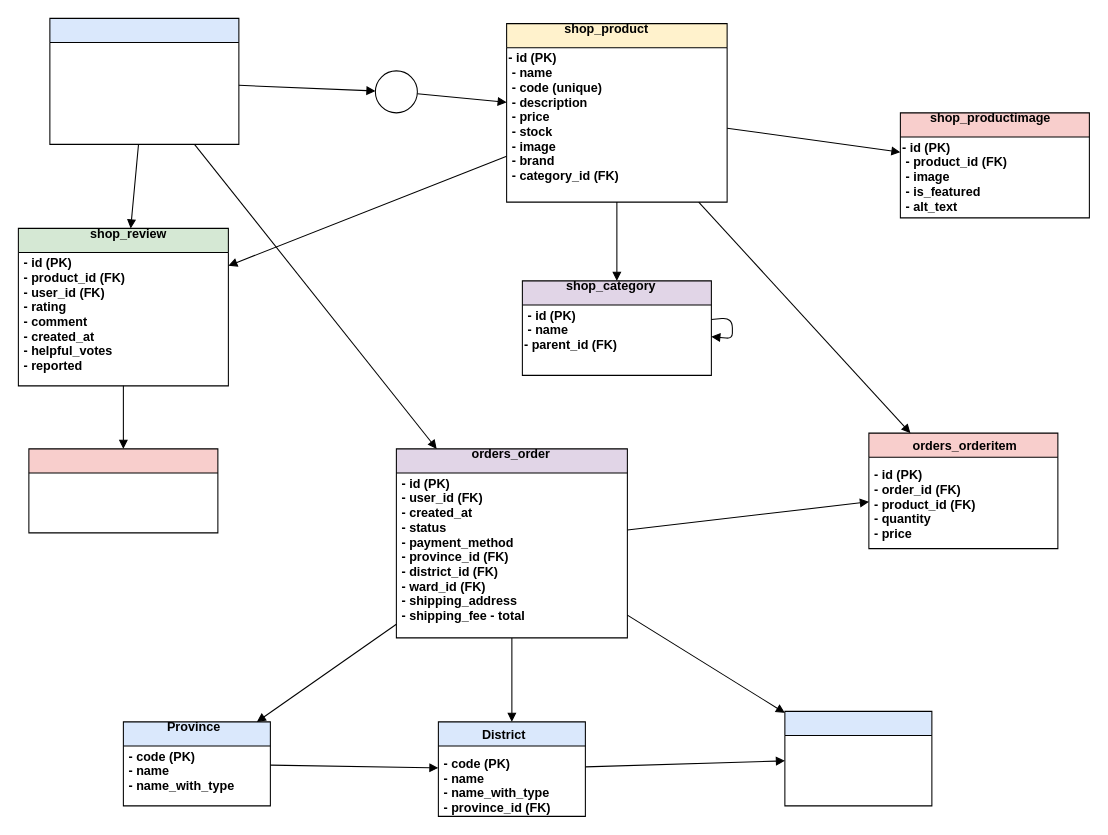
Some shapes in this 1108 by 835 pixel diagram are drawn without their labels. The shapes that lost their labels are listed below. From the top down, each one's centre as x and y in pixels, then its label:
At (x=144, y=80): "accounts_user - id (PK) - username - email - phone_number - address - avatar".
At (x=395, y=91): "wishlist".
At (x=123, y=490): "shop_reviewphoto - id (PK) - review_id (FK) - image".
At (x=858, y=758): "Ward - code (PK) - name - name_with_type - district_id (FK)".
